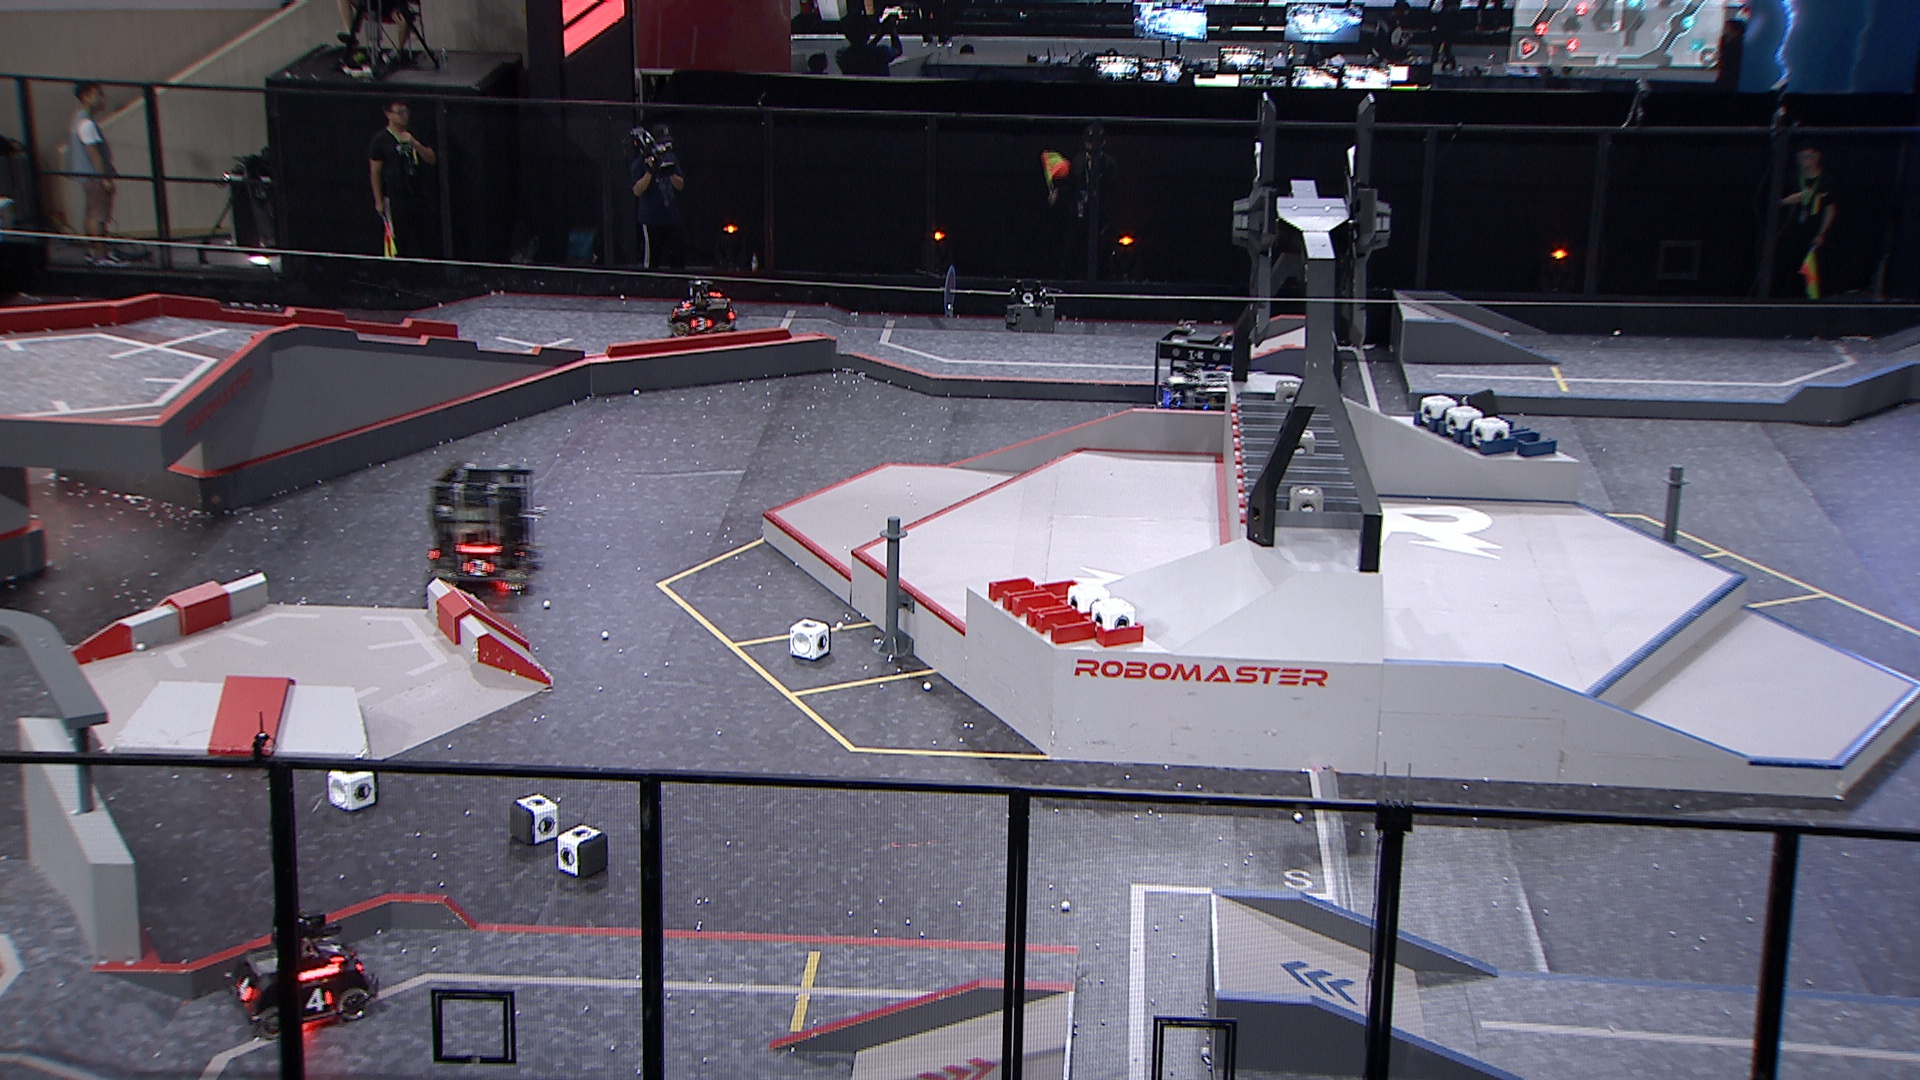armor: (314, 938, 349, 964), (305, 982, 335, 1011), (231, 973, 257, 1006), (463, 556, 495, 579), (688, 315, 713, 332)
car: (225, 907, 384, 1040), (429, 458, 543, 593), (1158, 367, 1271, 472), (1149, 328, 1251, 433), (665, 280, 737, 342)
